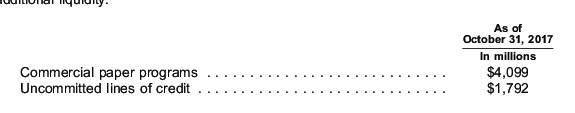table: (0, 0, 575, 113)
